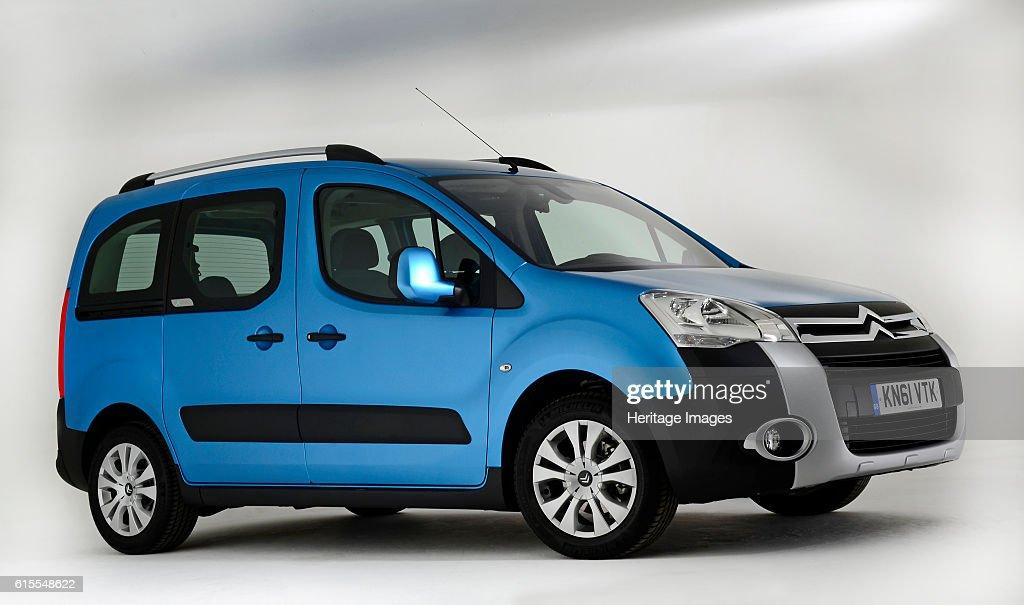Citroen: (848, 295, 900, 356)
